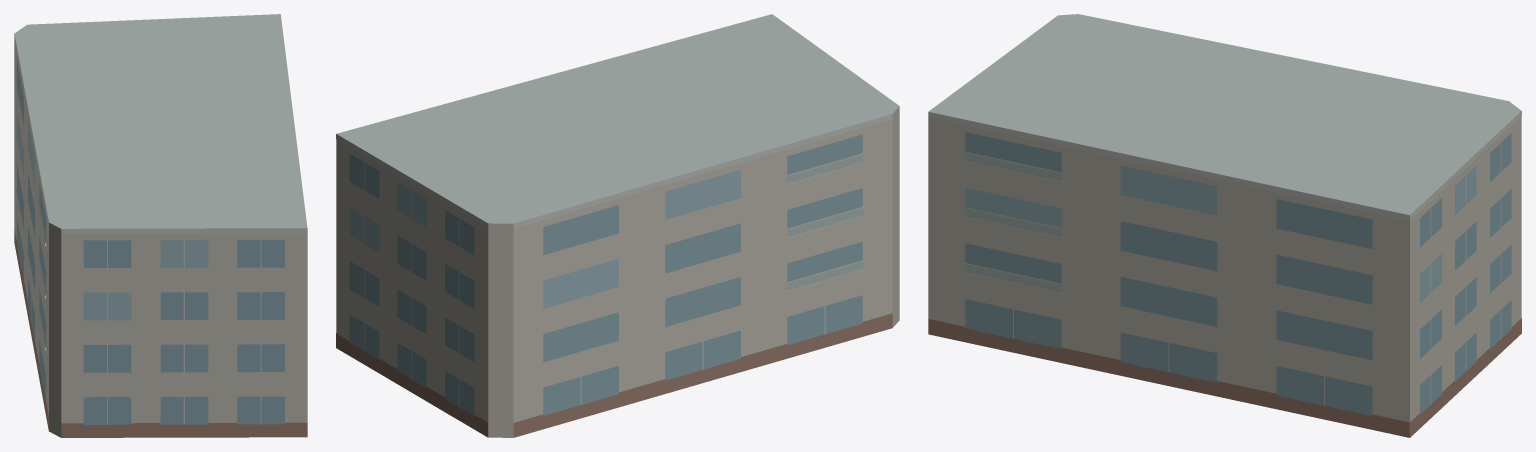
File: survey-upis-32928674.glb
3 renders of one model, left to right at view 1: azimuth 30°, elevation 25°; view 2: azimuth 150°, elevation 25°; view 3: azimuth 270°, elevation 25°, orthographic. The views are drawn at different scales.
Visible parts, largest first — view 1: survey-upis-32928674.tmp; view 2: survey-upis-32928674.tmp; view 3: survey-upis-32928674.tmp.
Boxes of the visible parts, <box> form: survey-upis-32928674.tmp: <box>14,14,307,437</box>; survey-upis-32928674.tmp: <box>336,14,899,437</box>; survey-upis-32928674.tmp: <box>928,14,1521,437</box>.
Bounding box in the file's own units: 19.79 × 10.2 × 24.65.
